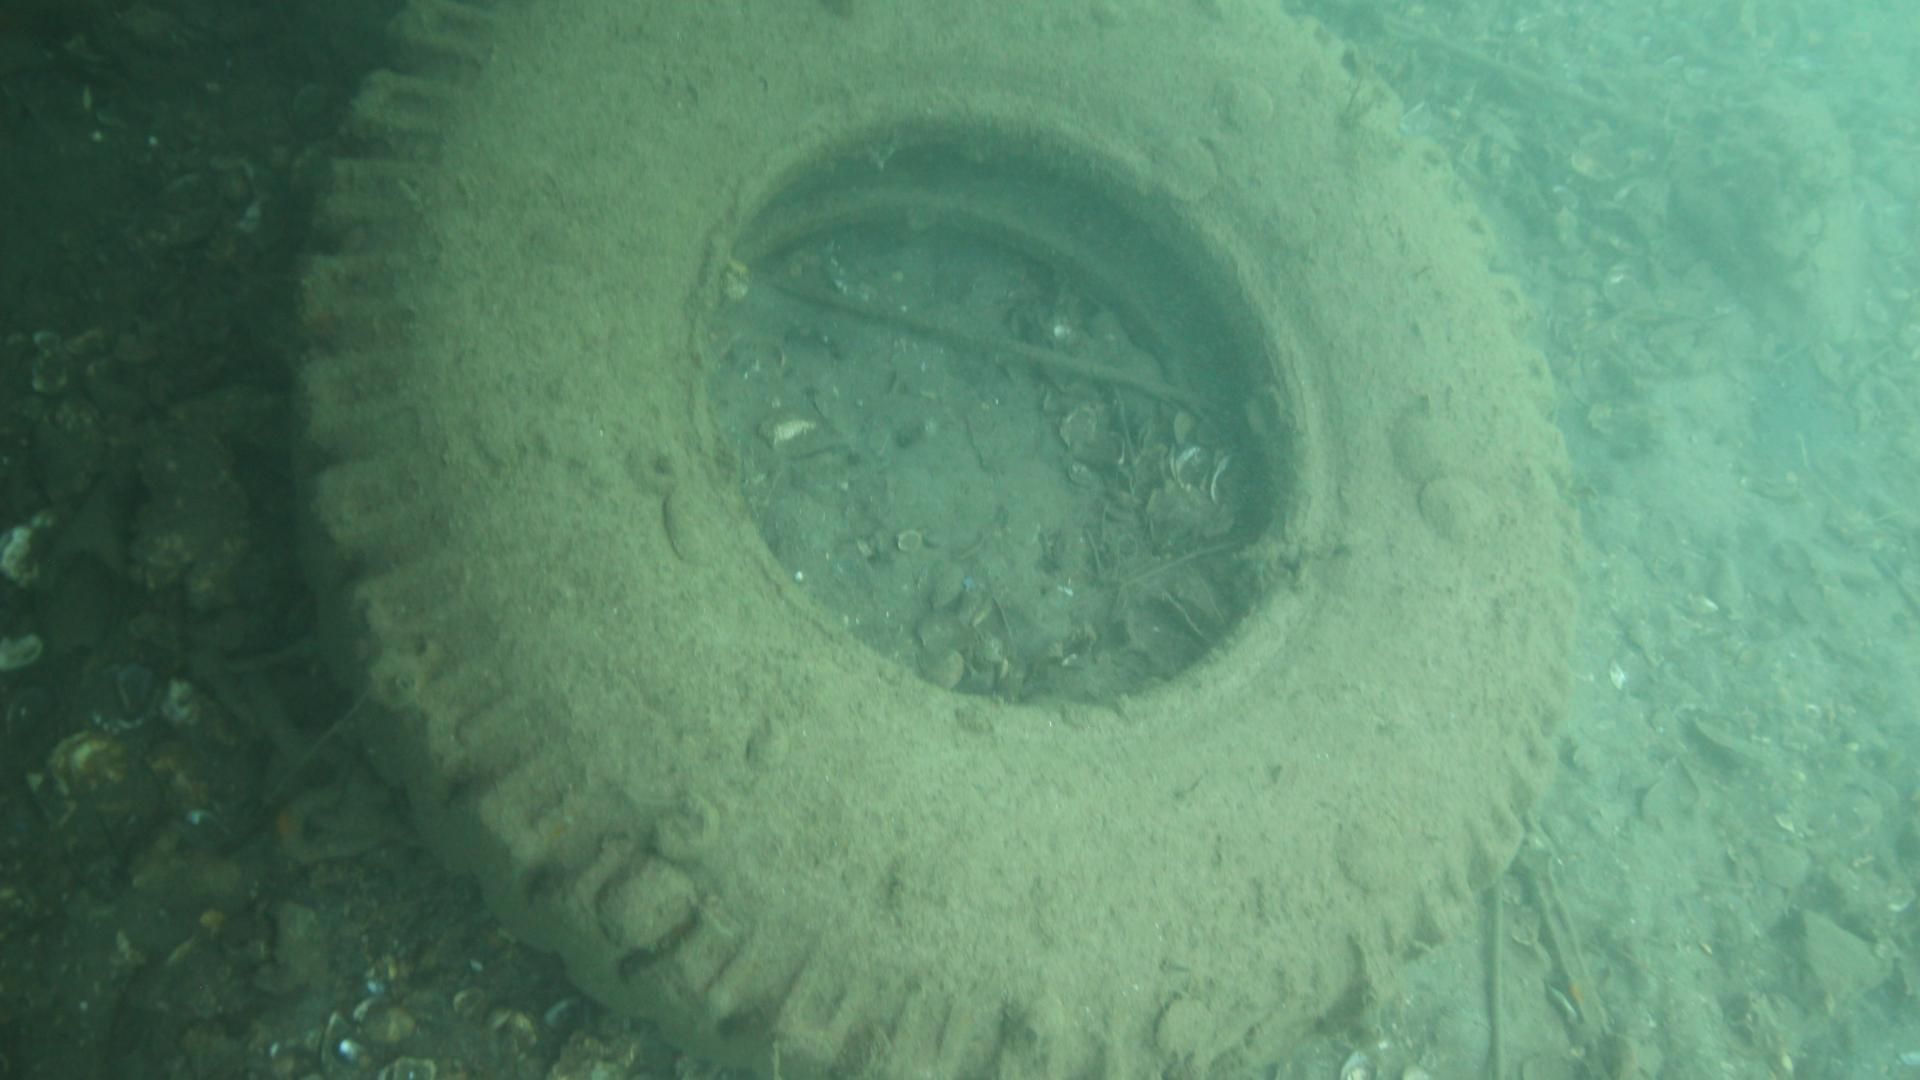tire: (289, 0, 1571, 1080)
